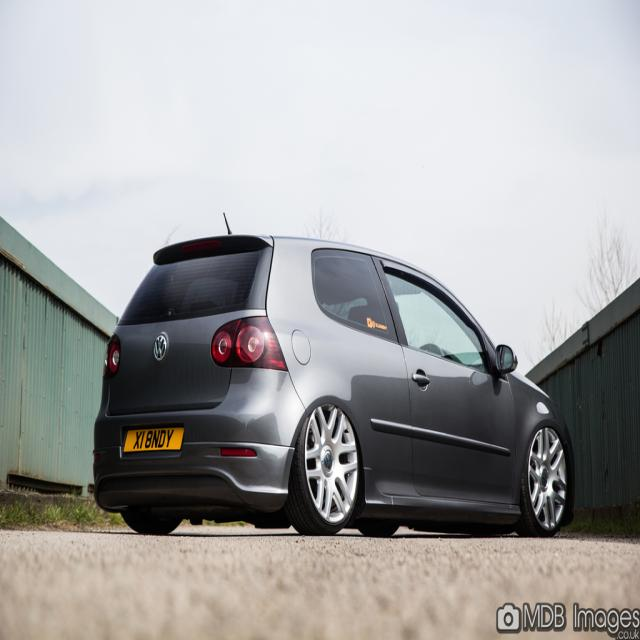car: (93, 213, 577, 537)
